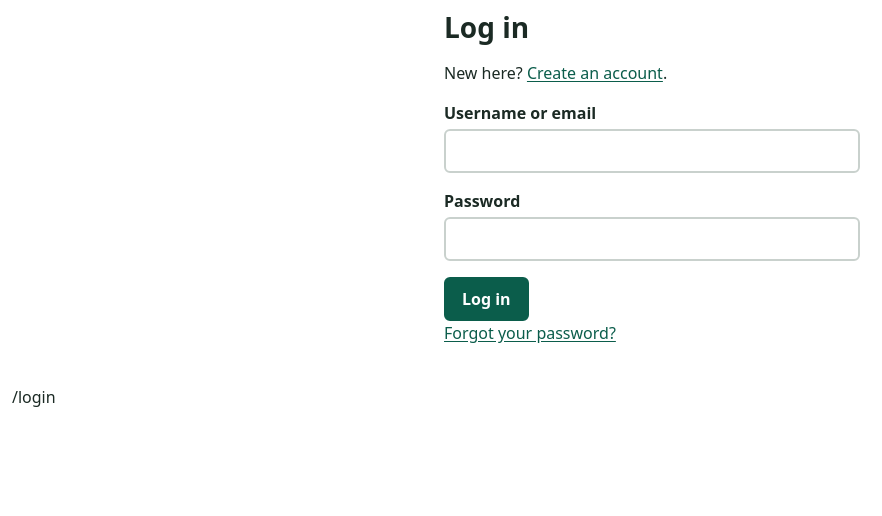
Login page › says so when the server cannot be reached
Type "ronel" into the field labelled "Username or email" at (652, 151), box [444,129,860,173]
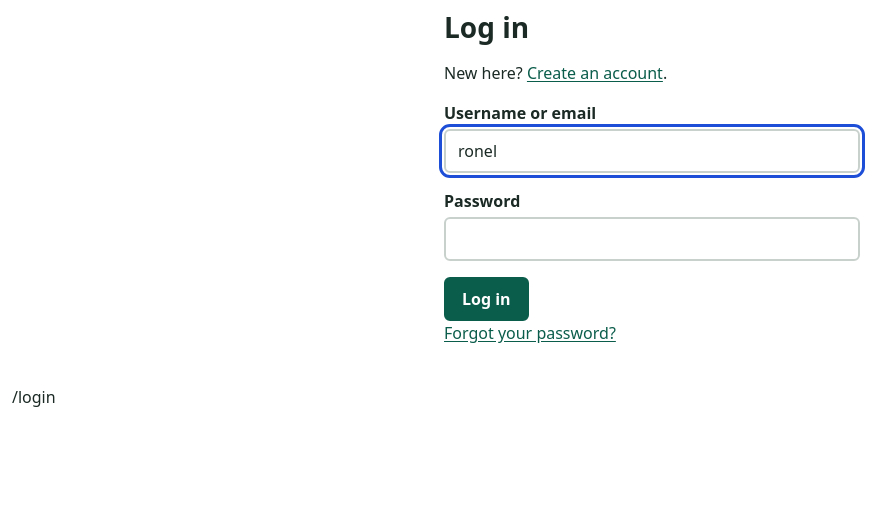
Type "secret-pw" into the password field labelled "Password" at (652, 239), box [444,217,860,261]
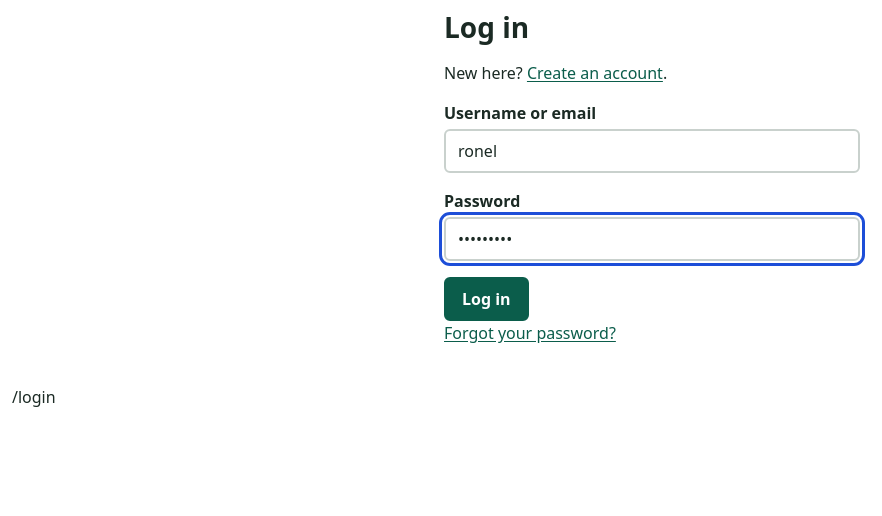
Click the button "Log in" at (486, 299), box [444,277,529,321]
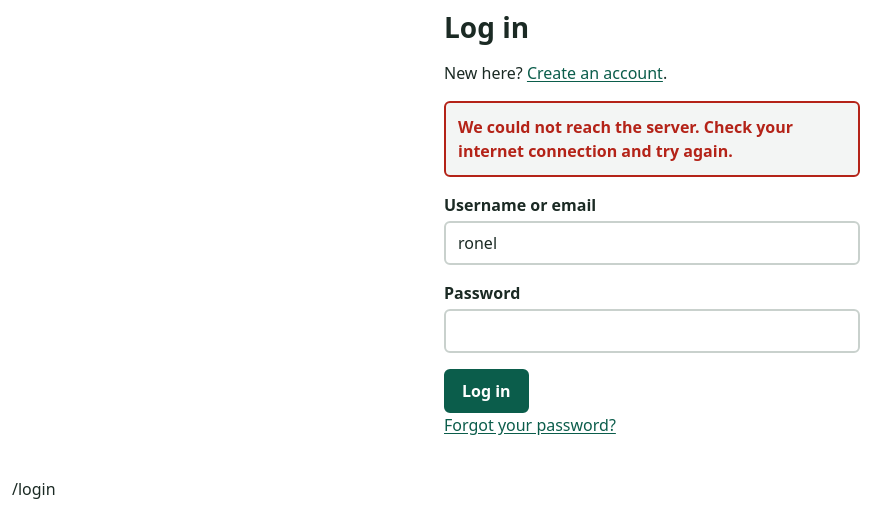
Expected: the message shows "could not reach the server", [458,116,793,162]
